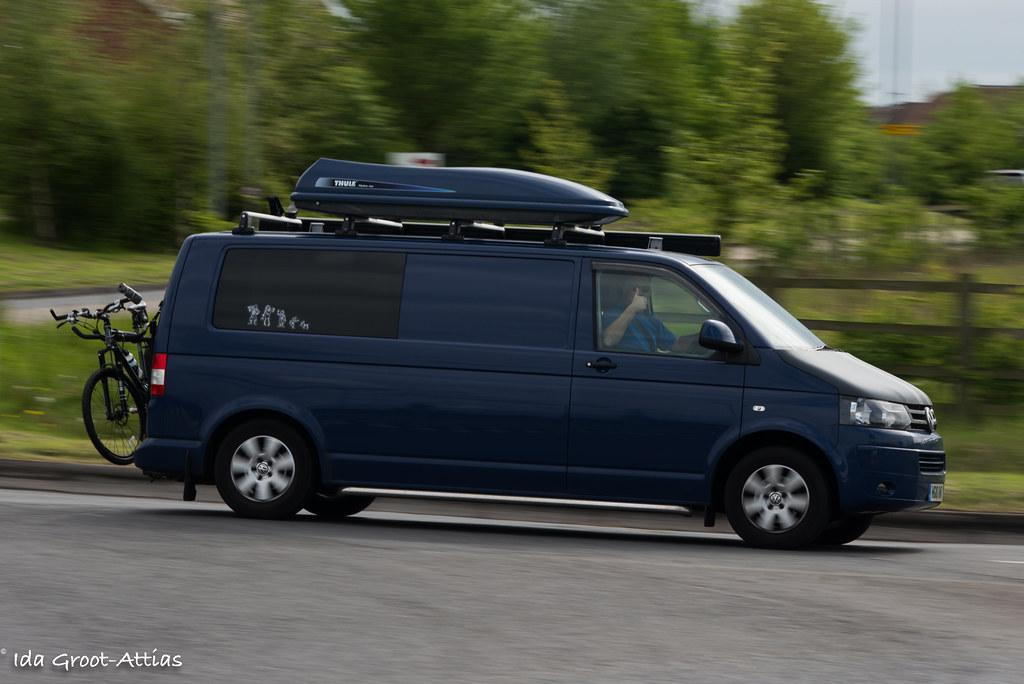car: (132, 157, 948, 551)
